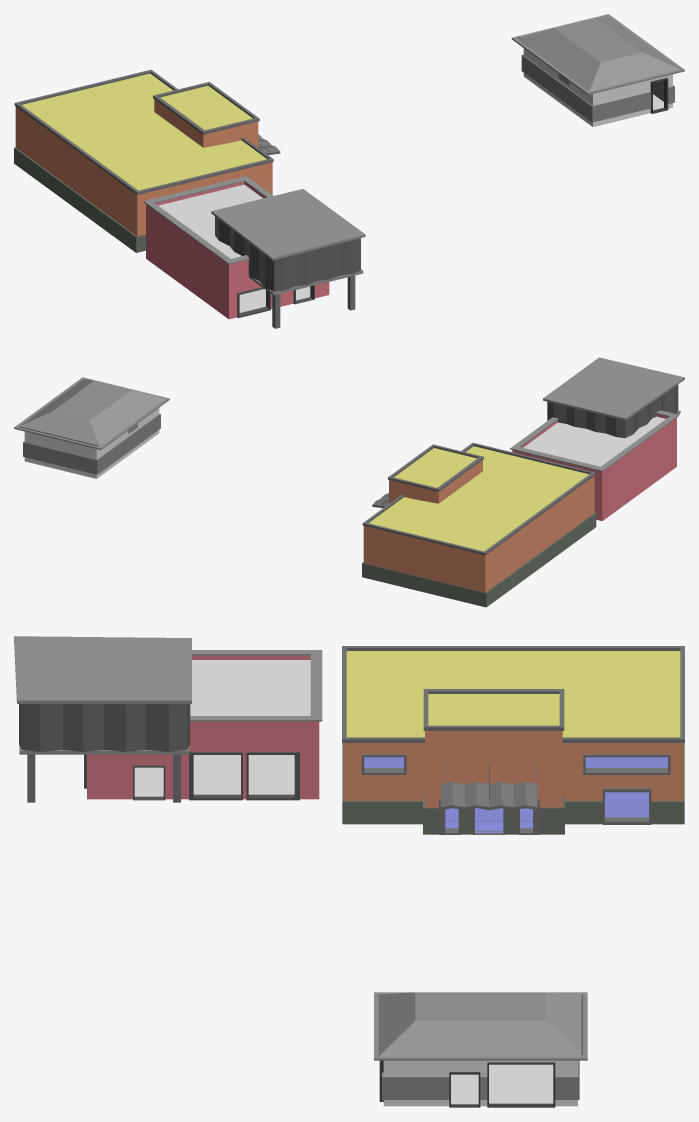
File: HardwareStore.fbx
The picture shows the model from 3 angles, top to bottom: view 1: azimuth 30°, elevation 25°; view 2: azimuth 150°, elevation 25°; view 3: azimuth 270°, elevation 25°; orthographic projection. The views are drawn at different scales.
Visible parts, largest first — view 1: Cube.001, Cube.002, Cube.004; view 2: Cube.001, Cube.002, Cube.004; view 3: Cube.001, Cube.002, Cube.004, Cube.005.
Part boxes in pixels (x1,y1,x2,y2): Cube.001: [14, 69, 280, 252]; Cube.002: [143, 176, 365, 328]; Cube.004: [511, 14, 684, 126]; Cube.001: [362, 442, 596, 607]; Cube.002: [510, 357, 684, 521]; Cube.004: [14, 377, 169, 478]; Cube.001: [342, 646, 684, 834]; Cube.002: [14, 636, 322, 802]; Cube.004: [374, 992, 587, 1107]; Cube.005: [451, 1064, 553, 1104].
Bounding box in the file's own units: 1118 × 147 × 829.
